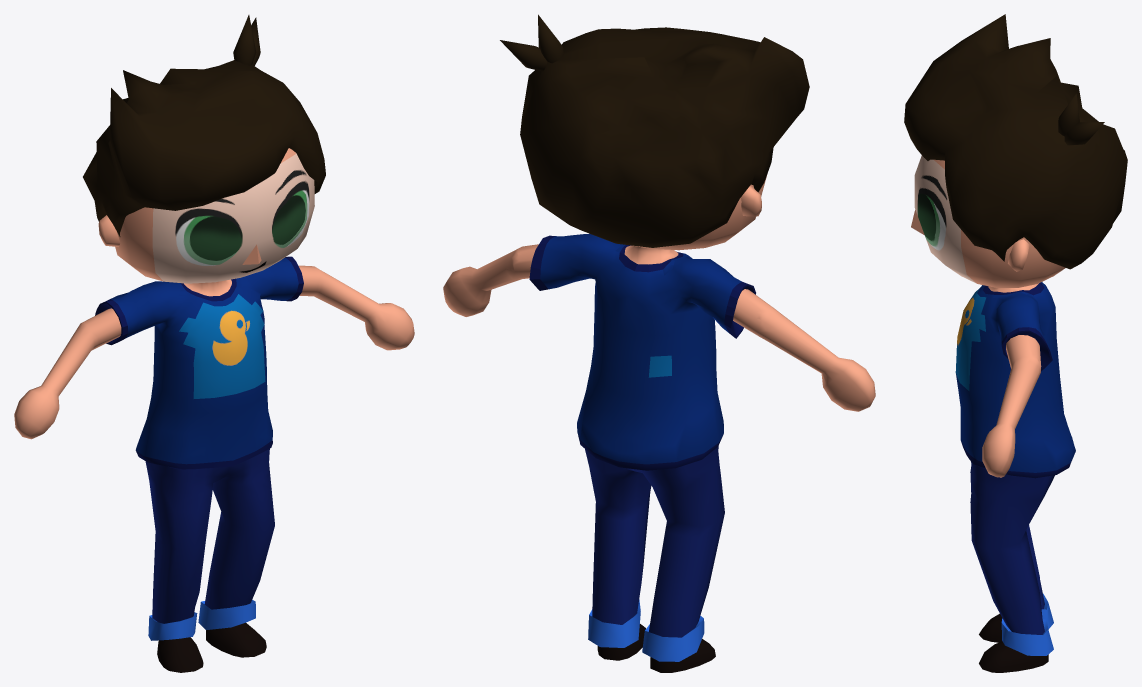
The model's file is Prop_MaleCharacter.fbx.
3 views of the same model, side by side, from view 1: azimuth 30°, elevation 25°; view 2: azimuth 150°, elevation 25°; view 3: azimuth 270°, elevation 25° (orthographic). The views are drawn at different scales.
Visible parts, largest first — view 1: Prop_MaleCharacter; view 2: Prop_MaleCharacter; view 3: Prop_MaleCharacter.
Part boxes in pixels (left/top/right/bottom): Prop_MaleCharacter: left=14, top=15, right=414, bottom=672; Prop_MaleCharacter: left=443, top=14, right=875, bottom=672; Prop_MaleCharacter: left=904, top=14, right=1127, bottom=672.
Bounding box in the file's own units: 103 × 148 × 50.8.
Materials: 9 (2 with a texture image).
